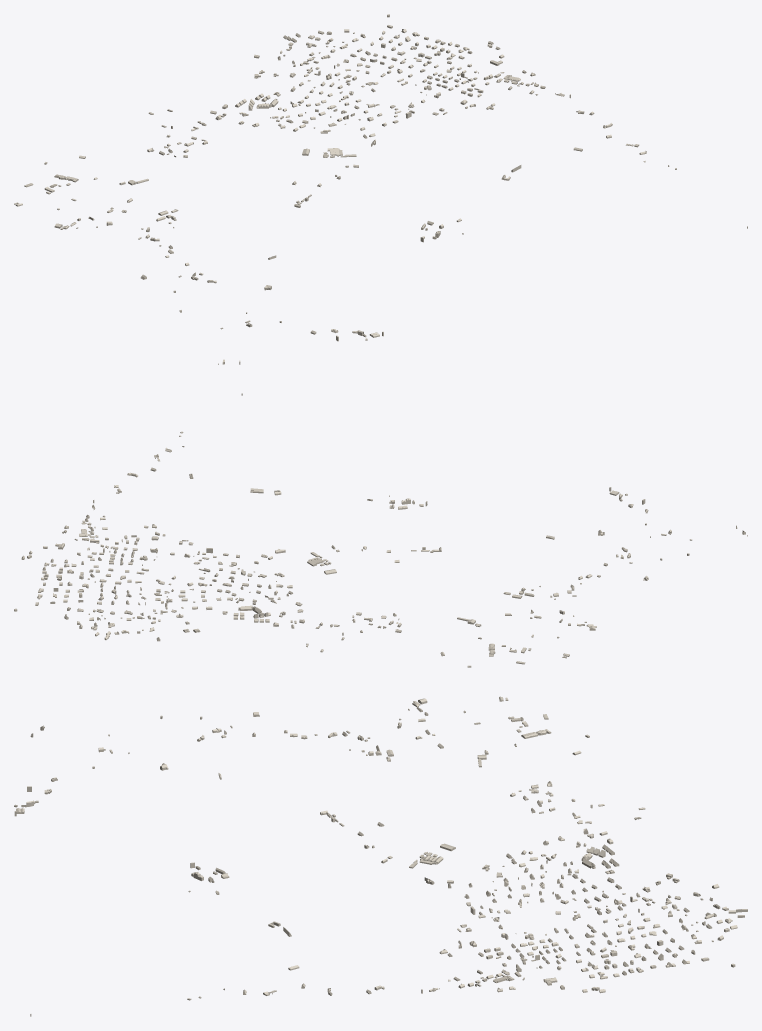
3 views of the same model, one above another, from view 1: azimuth 30°, elevation 25°; view 2: azimuth 150°, elevation 25°; view 3: azimuth 270°, elevation 25° (orthographic). The views are drawn at different scales.
Bounding box in the file's own units: 1791 × 93.89 × 1796.
